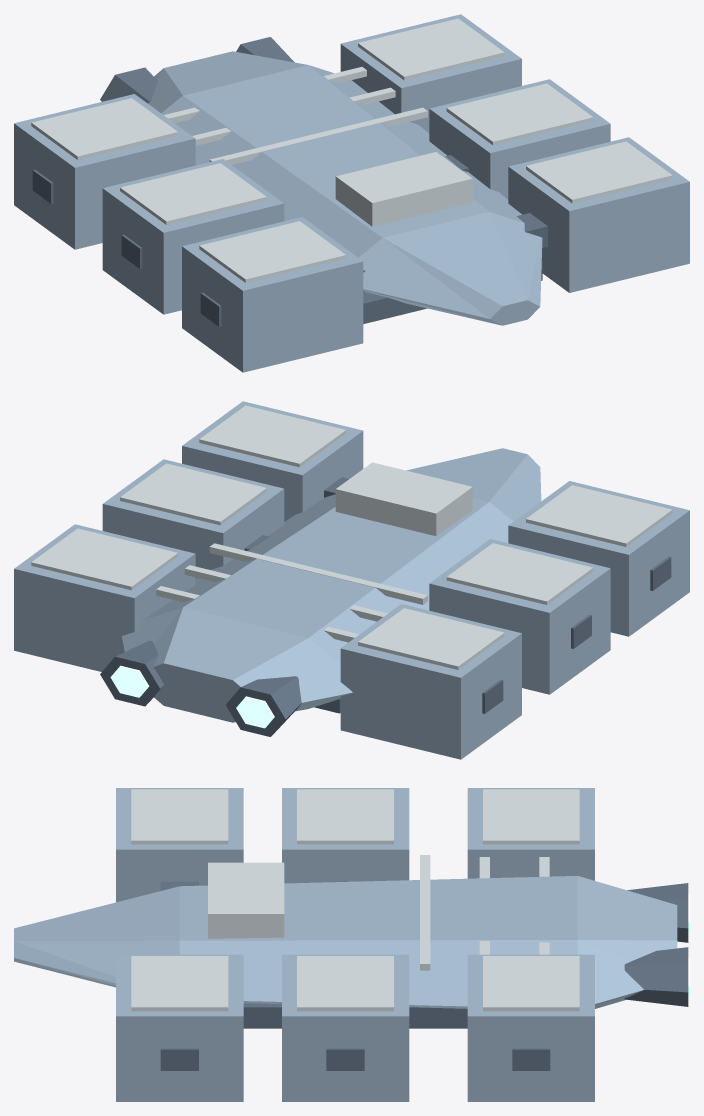
3 views of the same model, one above another, from view 1: azimuth 30°, elevation 25°; view 2: azimuth 150°, elevation 25°; view 3: azimuth 270°, elevation 25° (orthographic). The views are drawn at different scales.
Size of the model in its own units: 8.14 by 1.64 by 10.07.
